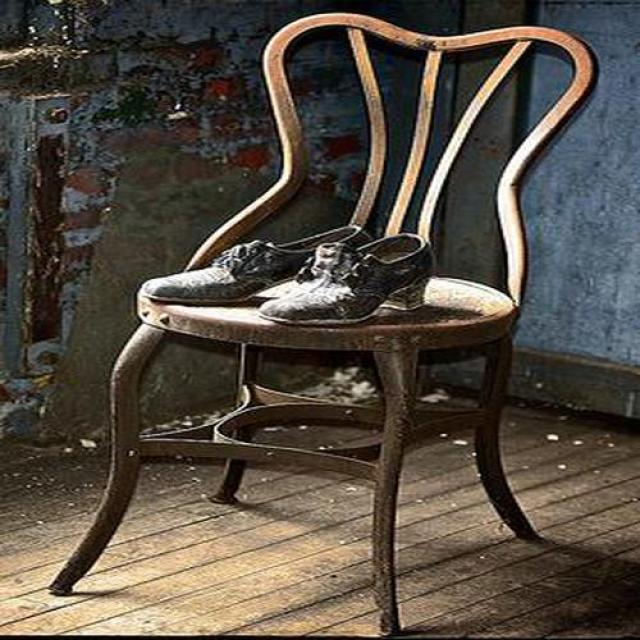chair: (49, 14, 599, 635)
